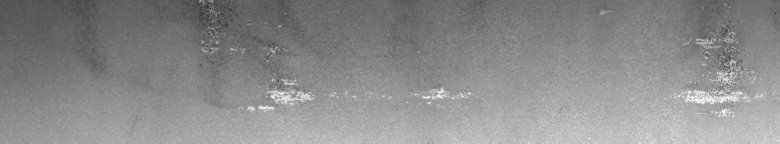hc: (600, 4, 763, 117)
